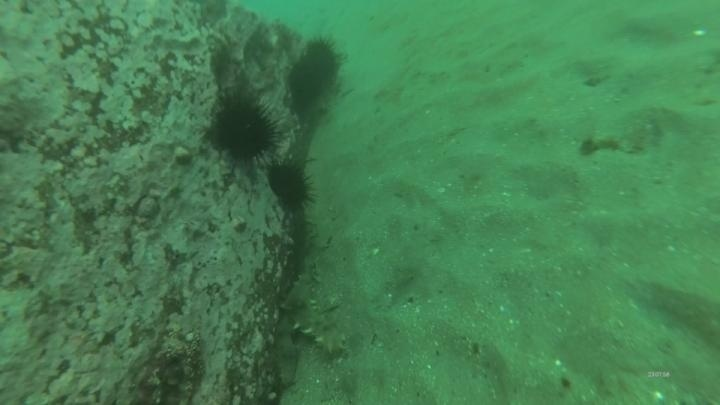echinus: (205, 89, 283, 169), (264, 157, 318, 214), (299, 34, 347, 90), (284, 55, 330, 111)
holothurian: (279, 271, 350, 360)
